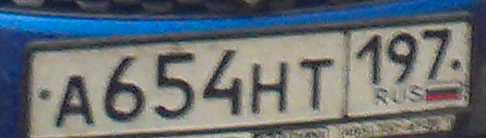character: (103, 52, 149, 123), (203, 45, 245, 120), (153, 51, 198, 119), (54, 72, 97, 133), (249, 58, 291, 118), (299, 54, 336, 114), (421, 23, 453, 82), (387, 31, 419, 86), (355, 31, 384, 88)
